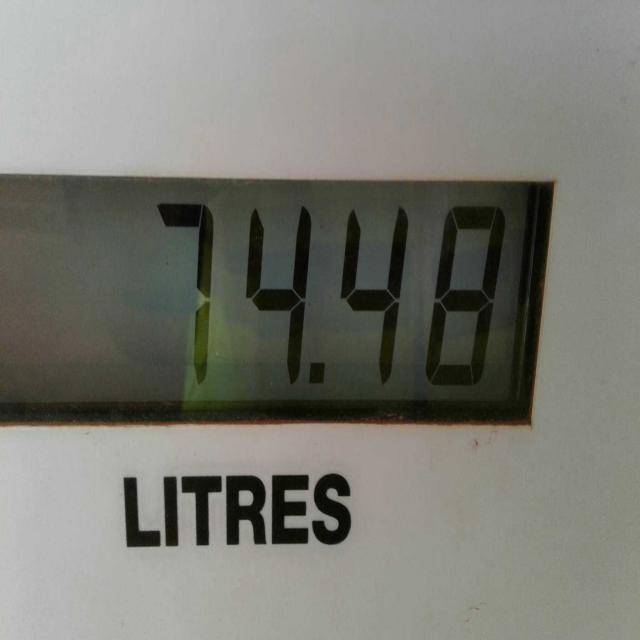.: (297, 350, 332, 402)
4: (335, 200, 425, 388), (233, 194, 309, 392)
7: (146, 187, 226, 401)
8: (426, 204, 520, 421)
